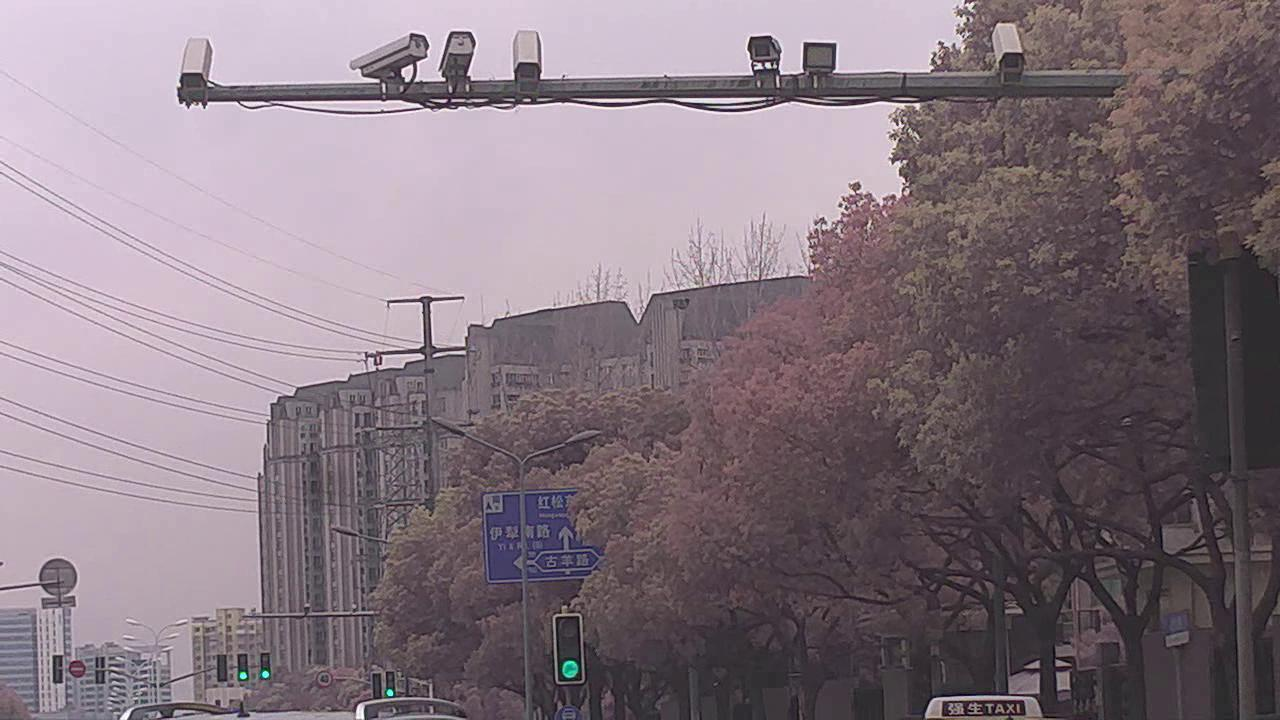traffic_light: (552, 613, 587, 684), (237, 653, 250, 683), (370, 674, 382, 700), (260, 652, 271, 679), (218, 653, 228, 682), (387, 672, 397, 699)
